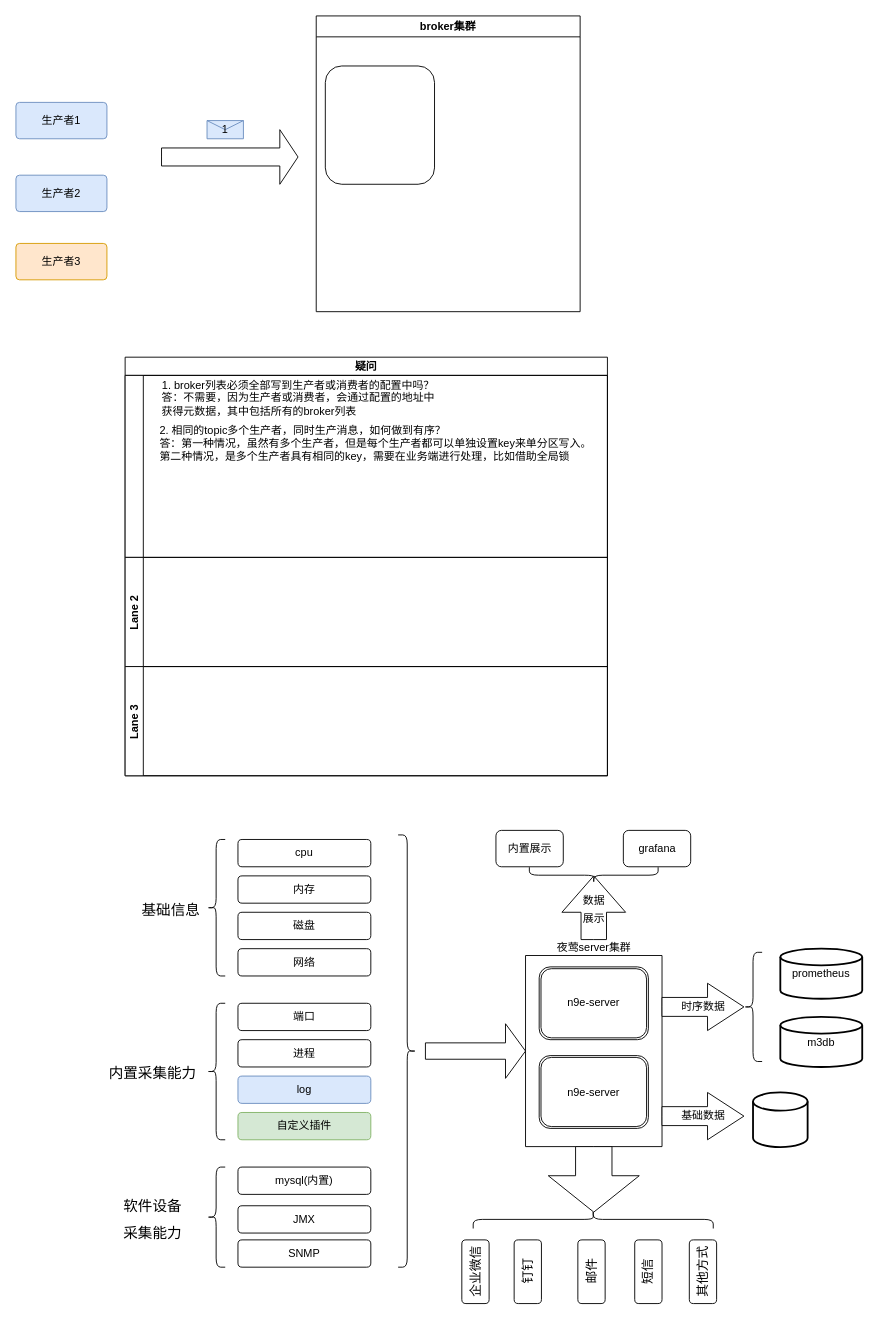
The diagram is 879 pixels wide and 1320 high, and some of its shapes have lost their labels. Here are the shapes that lost their labels. From the top down, the centre of each, then its label:
the point at 379,124: broker1
the point at 229,156: topic：1
the point at 475,1050: 上报指标
the point at 780,1119: mysql
the point at 593,1179: 告警 方式
